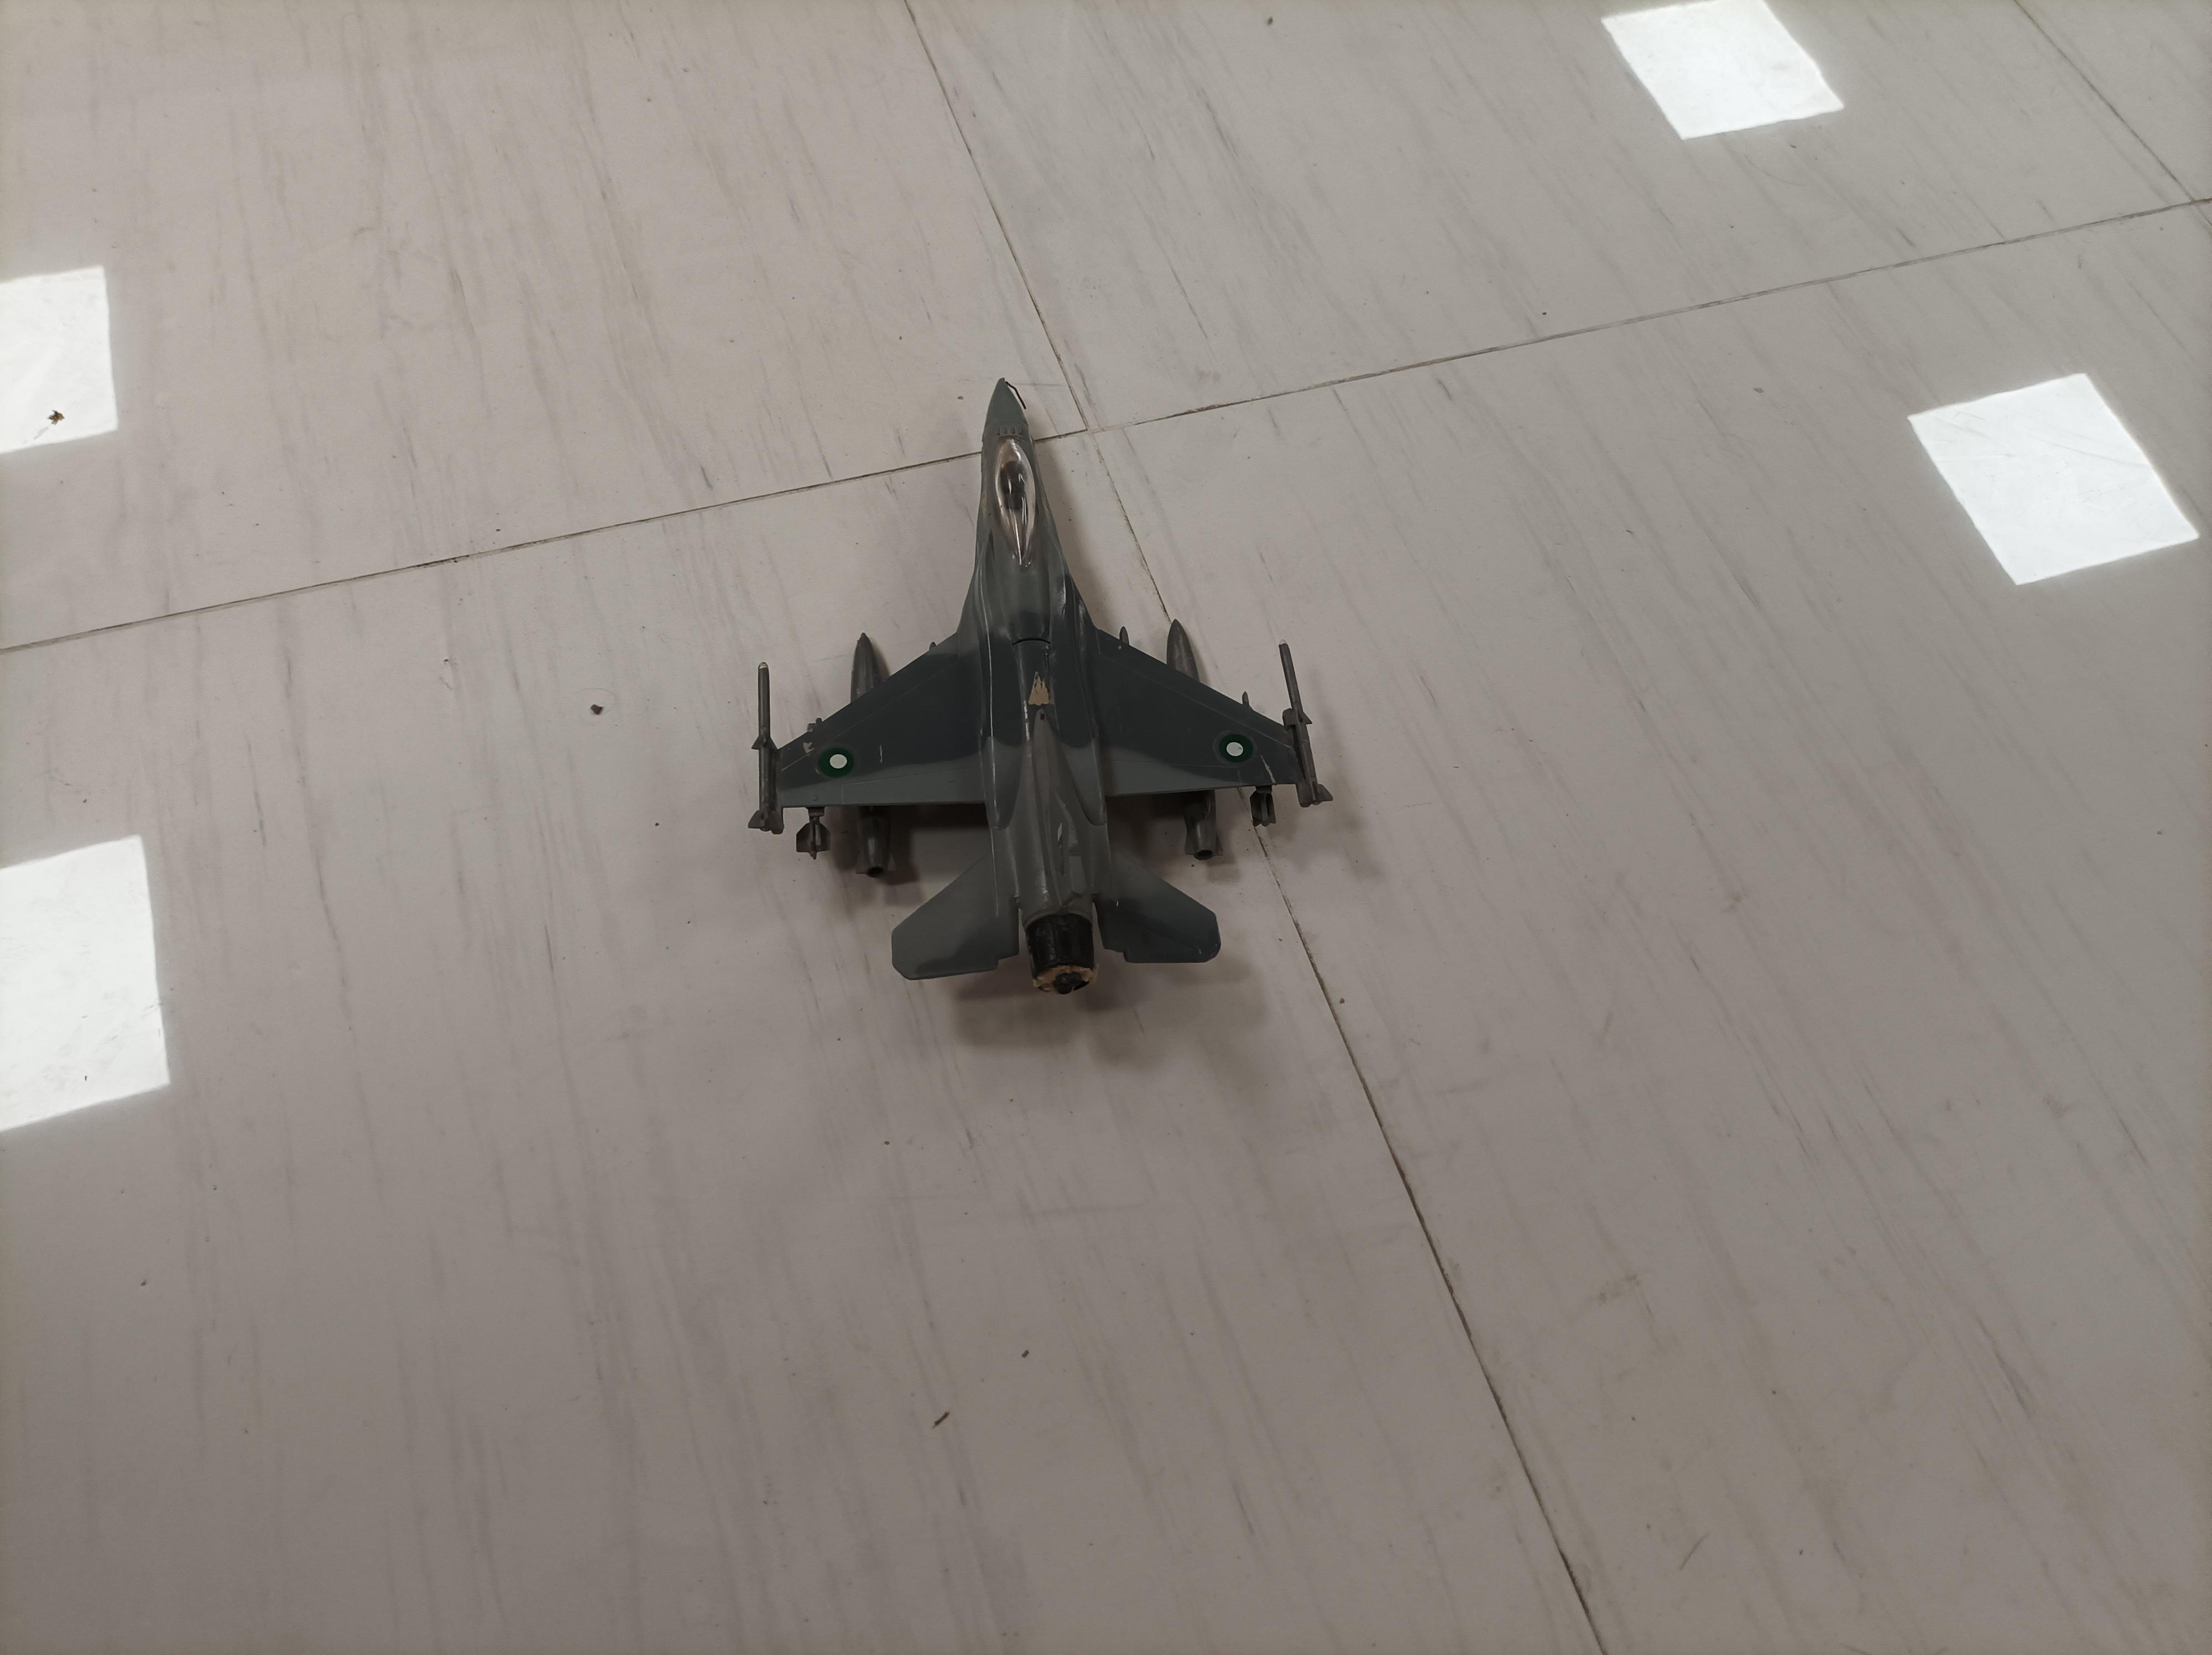Airplane: (697, 356, 1355, 1057)
